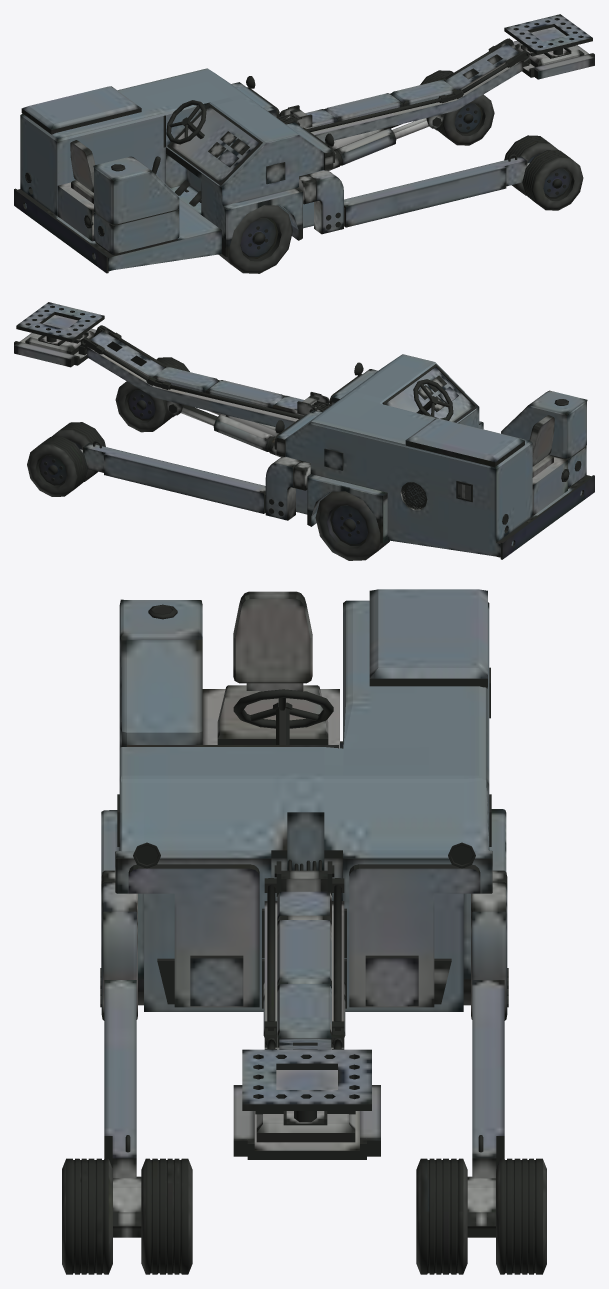
The model's file is stand_loader.glb.
The picture shows the model from 3 angles, top to bottom: view 1: azimuth 30°, elevation 25°; view 2: azimuth 150°, elevation 25°; view 3: azimuth 270°, elevation 25°; orthographic projection. The views are drawn at different scales.
Parts seen in each view (by area): view 1: weapon; view 2: weapon; view 3: weapon.
Part boxes in pixels (left/top/right/bottom): weapon: left=14, top=14, right=594, bottom=273; weapon: left=14, top=302, right=594, bottom=560; weapon: left=62, top=589, right=546, bottom=1274.
Size of the model in its own units: 1 by 0.2683 by 0.4048.
Materials: 1 (1 with a texture image).
